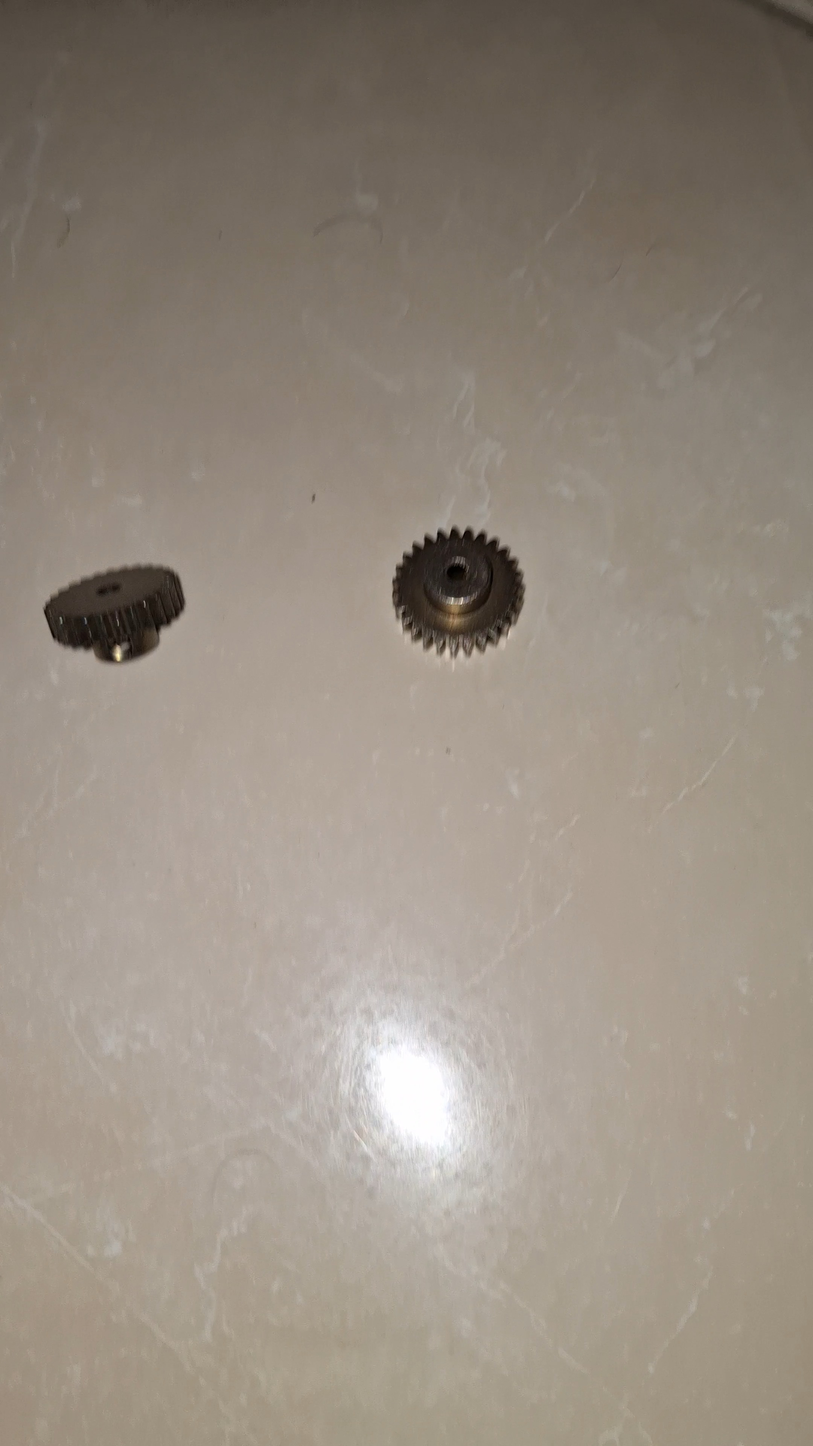spur gear: (393, 529, 524, 656), (45, 566, 184, 662)
